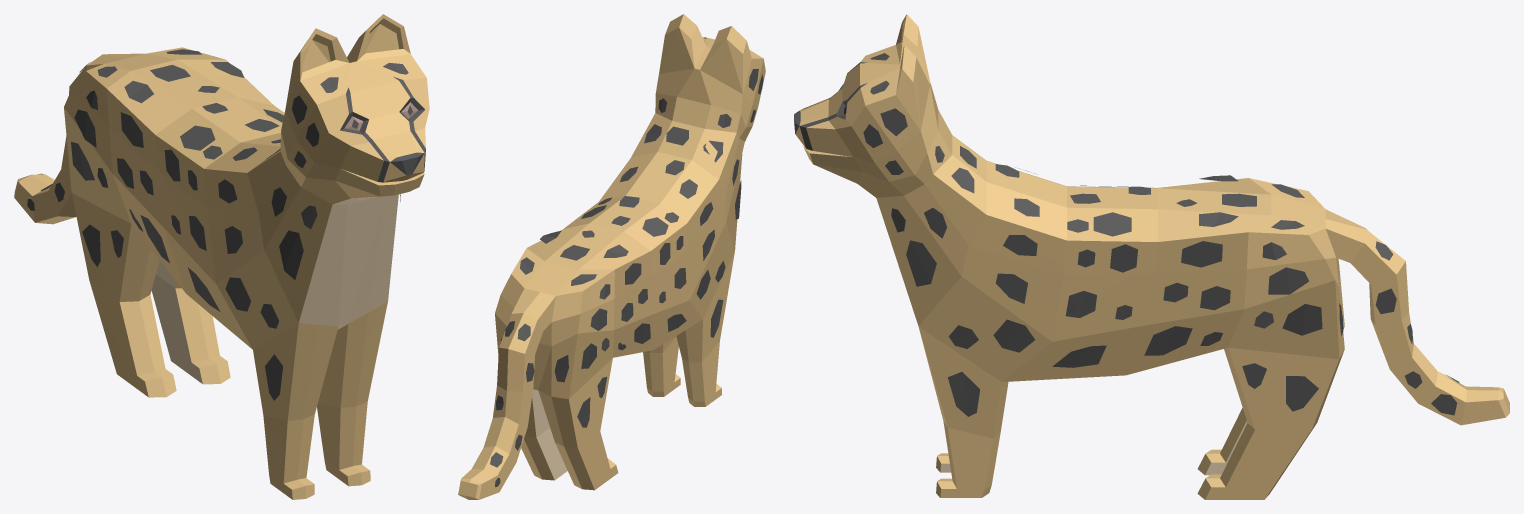
File: Cheetah.glb
The picture shows the model from 3 angles, left to right: view 1: azimuth 30°, elevation 25°; view 2: azimuth 150°, elevation 25°; view 3: azimuth 270°, elevation 25°; orthographic projection. The views are drawn at different scales.
Visible parts, largest first — view 1: Lepord_01_Cube.038; view 2: Lepord_01_Cube.038; view 3: Lepord_01_Cube.038.
Part boxes in pixels (left/top/right/bottom): Lepord_01_Cube.038: left=14, top=14, right=429, bottom=499; Lepord_01_Cube.038: left=458, top=14, right=765, bottom=499; Lepord_01_Cube.038: left=794, top=14, right=1509, bottom=499.
Bounding box in the file's own units: 2.17 × 8.19 × 11.76.
